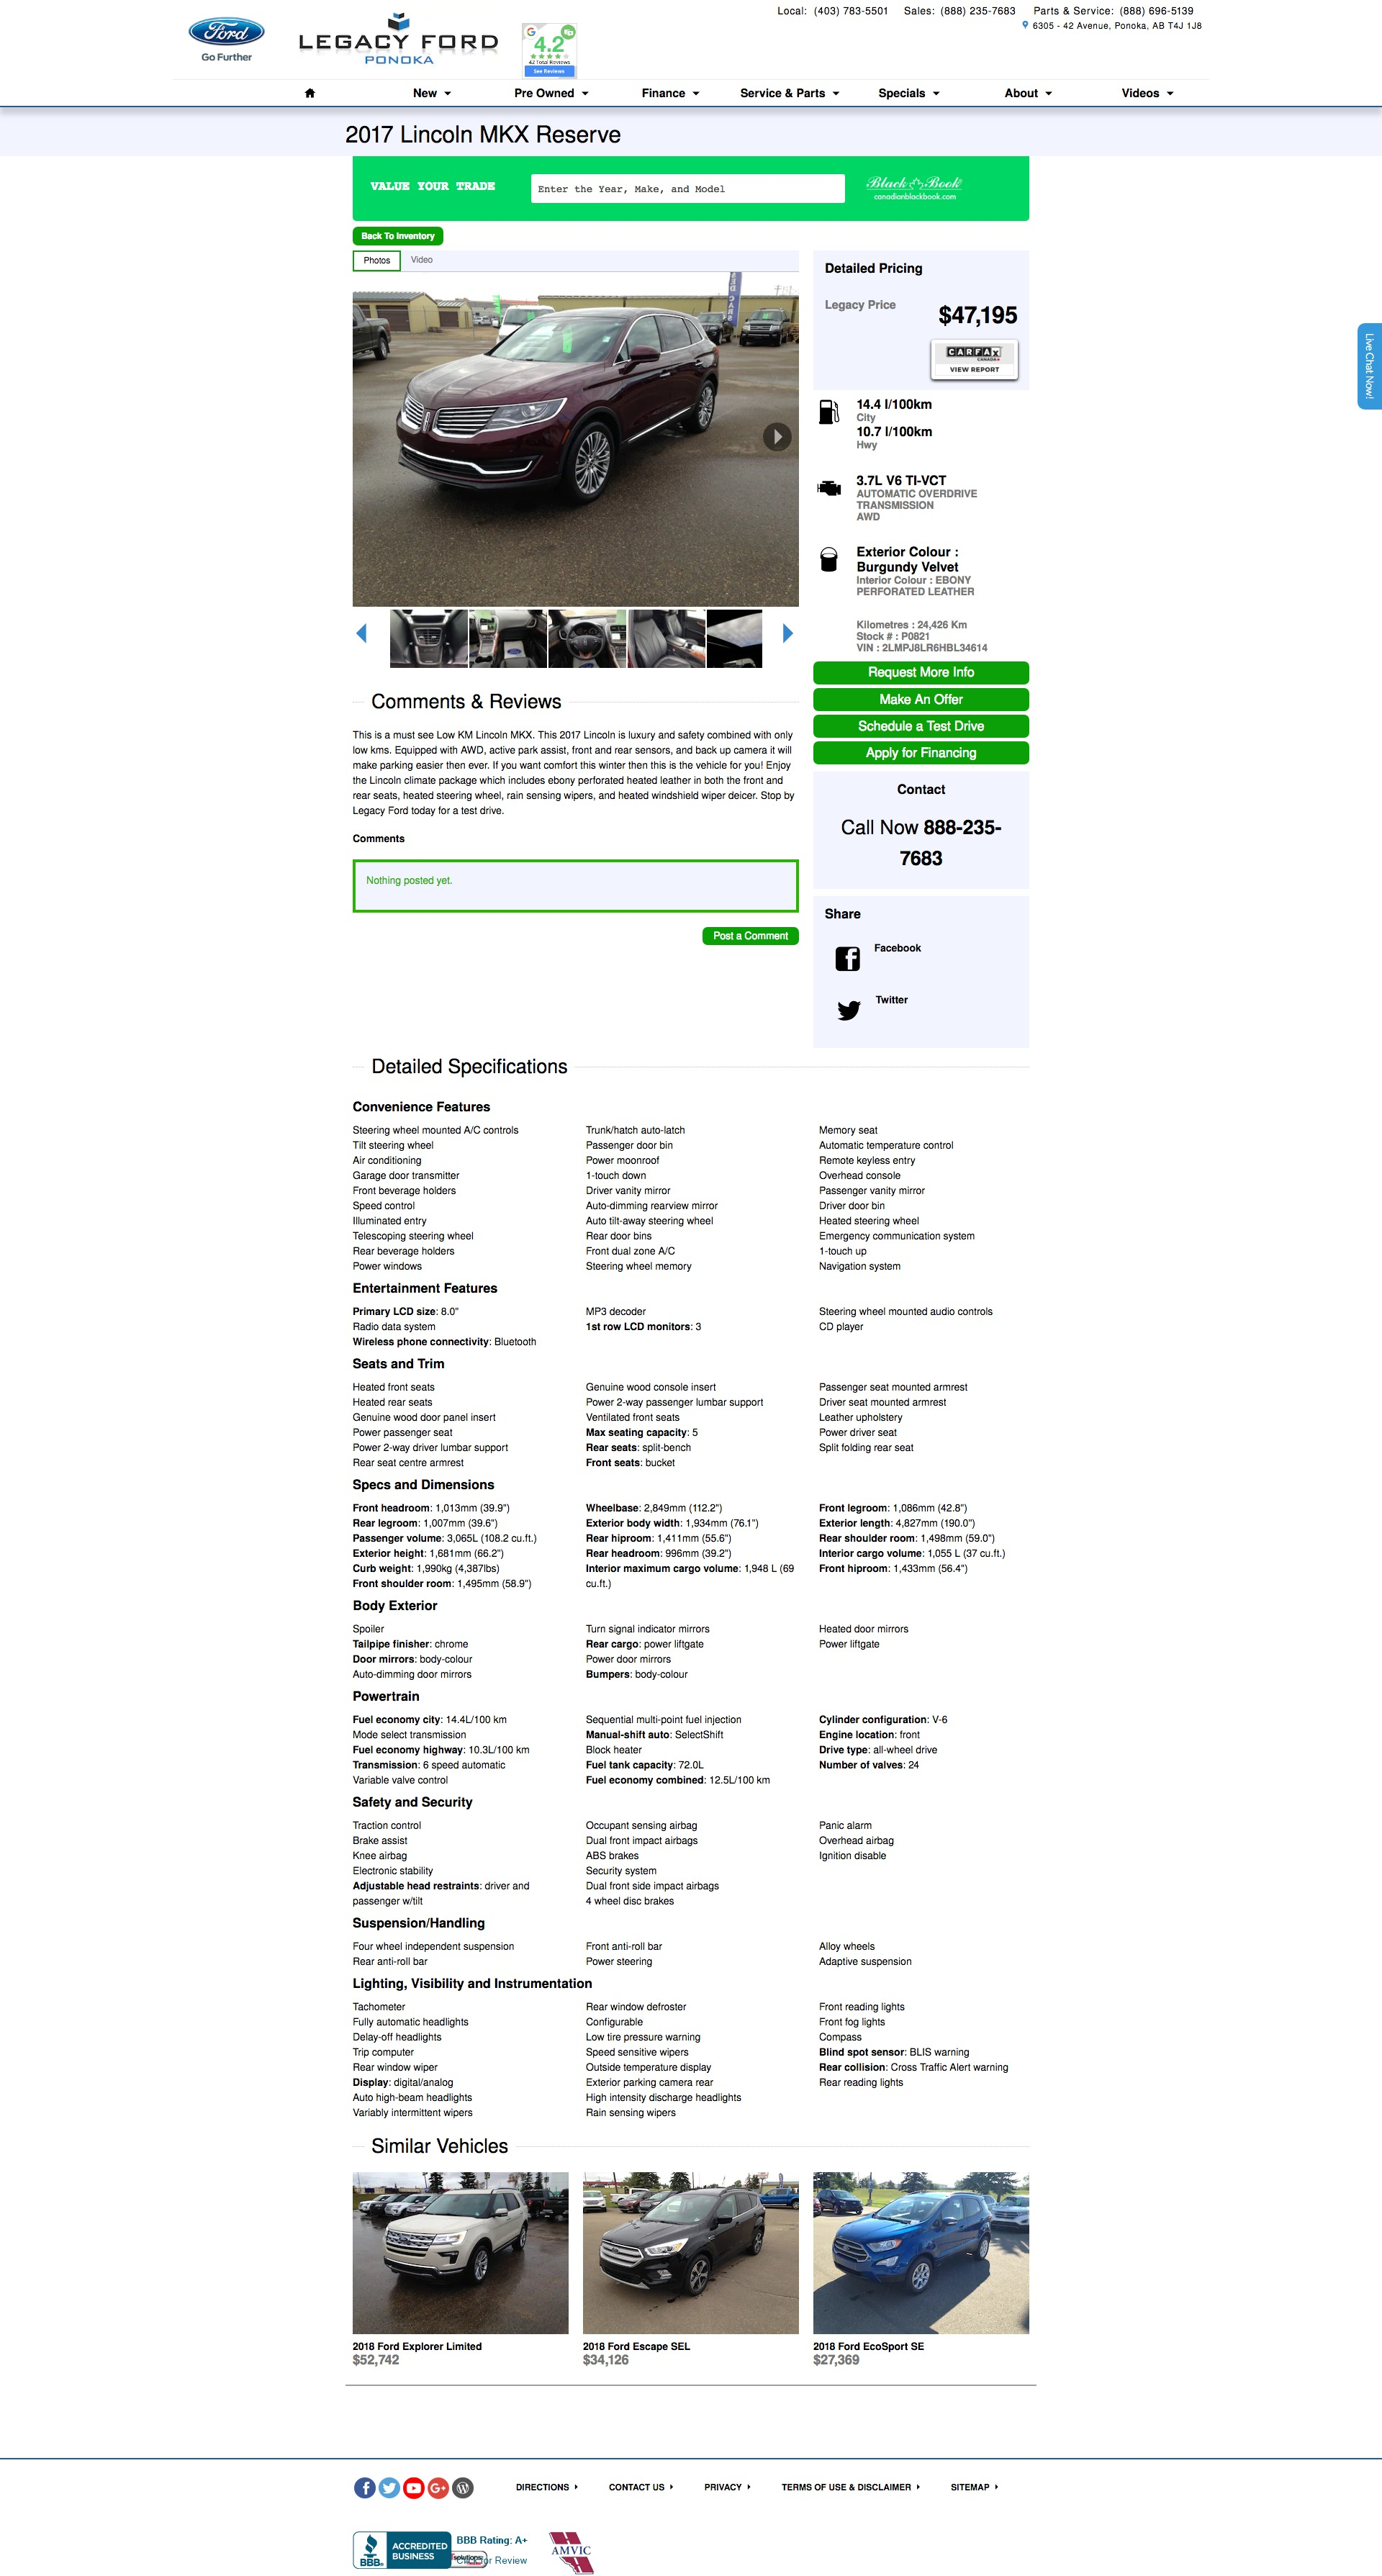car: (782, 622, 796, 644)
